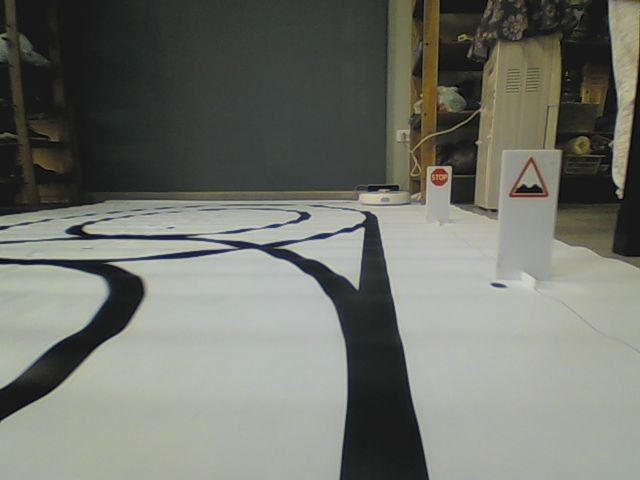Stop: (430, 167, 449, 186)
